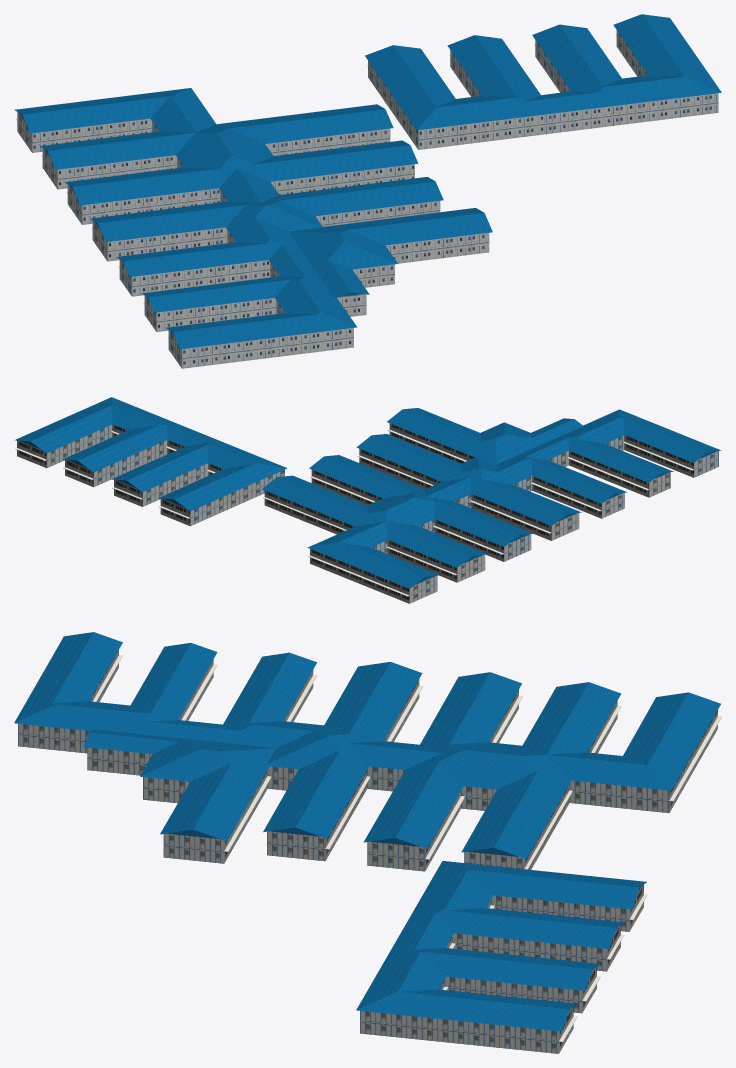
The model's file is huoshenfltf_0.glb.
The picture shows the model from 3 angles, top to bottom: view 1: azimuth 30°, elevation 25°; view 2: azimuth 150°, elevation 25°; view 3: azimuth 270°, elevation 25°; orthographic projection. The views are drawn at different scales.
Visible parts, largest first — view 1: mesh_CityEngineMaterial_4, mesh_CityEngineMaterial_1, mesh_CityEngineMaterial, mesh_CityEngineMaterial_2; view 2: mesh_CityEngineMaterial_4, mesh_CityEngineMaterial_3, mesh_CityEngineMaterial, mesh_CityEngineMaterial_2; view 3: mesh_CityEngineMaterial_4, mesh_CityEngineMaterial, mesh_CityEngineMaterial_3, mesh_CityEngineMaterial_2.
Boxes of the visible parts, box(x1,y1,x2,y2) form: mesh_CityEngineMaterial_4: box(14, 14, 721, 349); mesh_CityEngineMaterial_1: box(32, 93, 718, 368); mesh_CityEngineMaterial: box(17, 30, 647, 368); mesh_CityEngineMaterial_2: box(16, 34, 718, 358); mesh_CityEngineMaterial_4: box(14, 397, 721, 588); mesh_CityEngineMaterial_3: box(17, 423, 693, 603); mesh_CityEngineMaterial: box(46, 425, 718, 603); mesh_CityEngineMaterial_2: box(15, 429, 718, 596); mesh_CityEngineMaterial_4: box(14, 632, 720, 1031); mesh_CityEngineMaterial: box(18, 723, 669, 1053); mesh_CityEngineMaterial_3: box(89, 650, 717, 1053); mesh_CityEngineMaterial_2: box(18, 654, 721, 1042).
Size of the model in its own units: 351 by 15.31 by 266.
5 materials, 4 textured.
